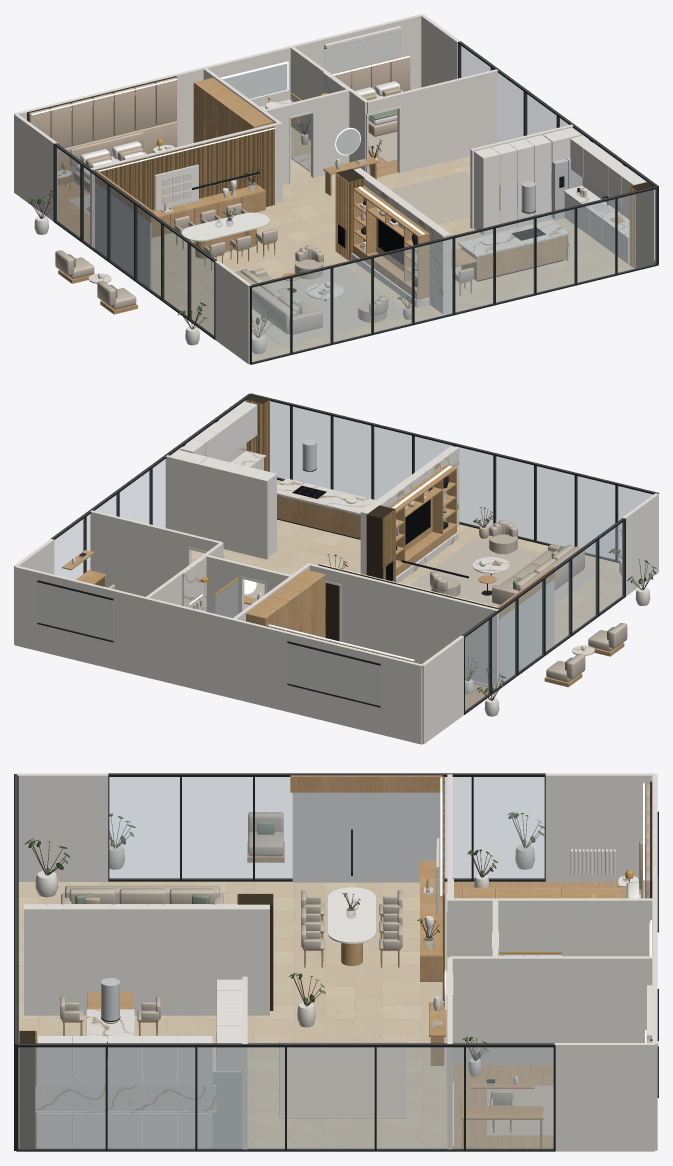
Rendered from apartamento-leve.glb.
3 renders of one model, top to bottom at view 1: azimuth 30°, elevation 25°; view 2: azimuth 150°, elevation 25°; view 3: azimuth 270°, elevation 25°, orthographic. The views are drawn at different scales.
Visible parts, largest first — view 1: apto_vidro, apto_parede, apto_porcelanato, apto_carvalho, apto_laca, apto_esquadria, apto_bege_painel, apto_ripado, apto_tapete, apto_tecido, apto_marmore, apto_ripado_fundo (+13 smaller); view 2: apto_parede, apto_vidro, apto_carvalho, apto_esquadria, apto_porcelanato, apto_tecido, apto_marmore, apto_laca, apto_tapete, apto_espelho, apto_ripado_fundo, apto_ripado (+5 smaller); view 3: apto_parede, apto_vidro, apto_porcelanato, apto_laca, apto_espelho, apto_esquadria, apto_carvalho, apto_tapete, apto_tecido, apto_marmore, apto_piso_madeira, apto_ripado_fundo (+8 smaller).
Part boxes in pixels (bbox=[...]): apto_vidro: bbox=[55, 31, 656, 362]; apto_parede: bbox=[14, 14, 573, 364]; apto_porcelanato: bbox=[94, 126, 634, 361]; apto_carvalho: bbox=[57, 77, 624, 322]; apto_laca: bbox=[57, 26, 645, 264]; apto_esquadria: bbox=[53, 41, 658, 364]; apto_bege_painel: bbox=[29, 55, 410, 193]; apto_ripado: bbox=[96, 116, 647, 268]; apto_tapete: bbox=[68, 131, 470, 345]; apto_tecido: bbox=[55, 203, 473, 334]; apto_marmore: bbox=[260, 72, 629, 314]; apto_ripado_fundo: bbox=[27, 76, 653, 268]; apto_parede: bbox=[14, 446, 658, 744]; apto_vidro: bbox=[38, 394, 655, 712]; apto_carvalho: bbox=[62, 465, 624, 687]; apto_esquadria: bbox=[37, 393, 658, 714]; apto_porcelanato: bbox=[191, 480, 621, 644]; apto_tecido: bbox=[104, 520, 627, 682]; apto_marmore: bbox=[182, 443, 510, 611]; apto_laca: bbox=[171, 401, 494, 688]; apto_tapete: bbox=[191, 538, 603, 609]; apto_espelho: bbox=[499, 580, 554, 684]; apto_ripado_fundo: bbox=[246, 395, 497, 662]; apto_ripado: bbox=[245, 400, 497, 608]; apto_parede: bbox=[17, 773, 657, 1151]; apto_vidro: bbox=[15, 774, 658, 1149]; apto_porcelanato: bbox=[18, 881, 447, 1148]; apto_laca: bbox=[37, 840, 652, 1148]; apto_espelho: bbox=[292, 792, 650, 1008]; apto_esquadria: bbox=[14, 773, 658, 1151]; apto_carvalho: bbox=[63, 775, 626, 1148]; apto_tapete: bbox=[279, 1041, 553, 1135]; apto_tecido: bbox=[60, 812, 514, 1106]; apto_marmore: bbox=[24, 904, 561, 1113]; apto_piso_madeira: bbox=[453, 881, 641, 1148]; apto_ripado_fundo: bbox=[19, 776, 652, 1148].
Bounding box in the file's own units: 15.99 × 2.6 × 14.16.
43 materials, 9 textured.
